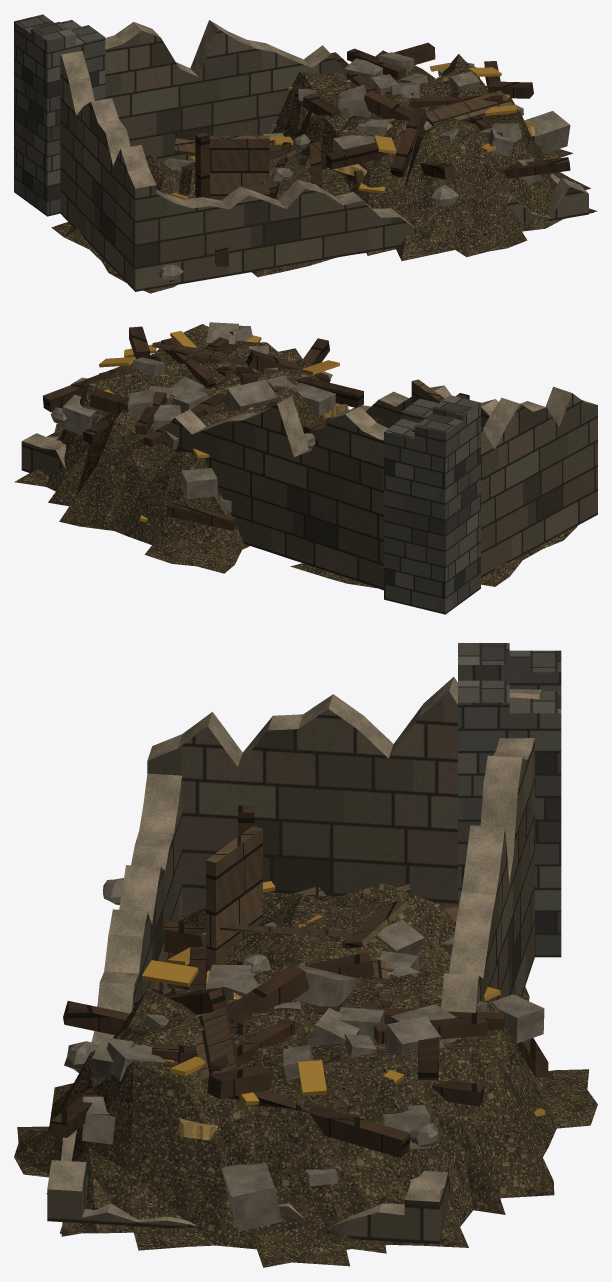
File: AraHut05a.glb
3 views of the same model, one above another, from view 1: azimuth 30°, elevation 25°; view 2: azimuth 150°, elevation 25°; view 3: azimuth 270°, elevation 25° (orthographic). The views are drawn at different scales.
Parts seen in each view (by area): view 1: AraHut05a_rwall; view 2: AraHut05a_rwall; view 3: AraHut05a_rwall.
Boxes of the visible parts, x1,y1,x2,y2 form: AraHut05a_rwall: [14, 14, 597, 293]; AraHut05a_rwall: [14, 322, 597, 614]; AraHut05a_rwall: [14, 643, 597, 1267].
Size of the model in its own units: 7.21 by 2.6 by 4.98.
9 materials, 8 textured.
